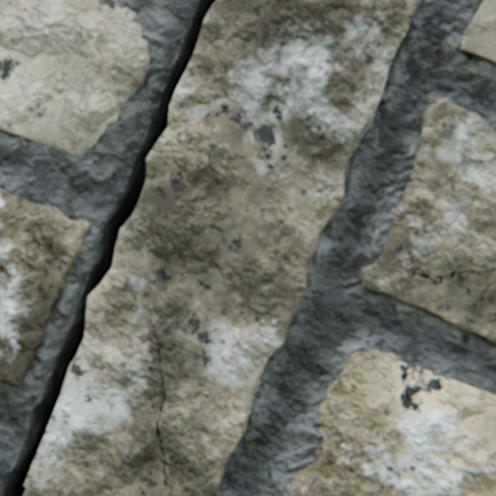brick: (24, 0, 420, 495), (359, 98, 495, 345), (287, 348, 495, 495), (0, 0, 149, 156), (0, 188, 91, 385), (459, 0, 495, 64)
crack: (0, 0, 215, 495), (156, 371, 165, 436), (409, 269, 447, 283), (163, 463, 171, 494), (146, 317, 157, 339), (449, 270, 467, 278), (469, 267, 495, 272), (158, 341, 160, 356), (160, 437, 162, 449)
